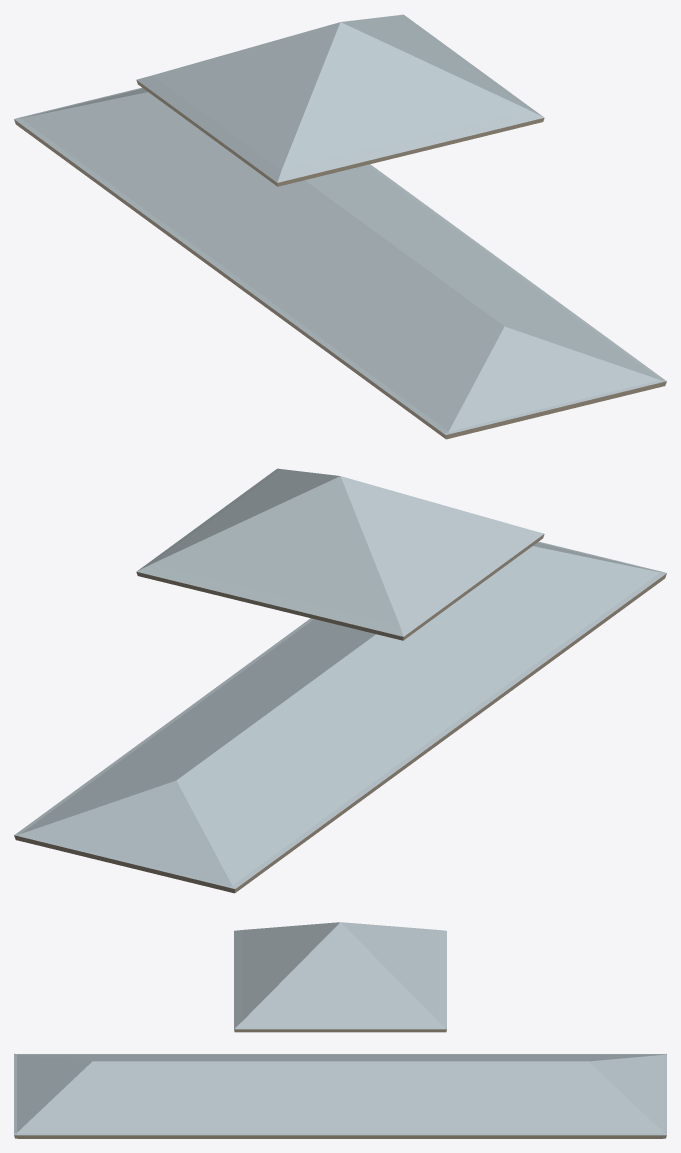
The model's file is civic-roof.glb.
3 views of the same model, one above another, from view 1: azimuth 30°, elevation 25°; view 2: azimuth 150°, elevation 25°; view 3: azimuth 270°, elevation 25° (orthographic). The views are drawn at different scales.
Visible parts, largest first — view 1: Roof, RoodWood; view 2: Roof, RoodWood; view 3: Roof, RoodWood.
Part boxes in pixels (x1,y1,x2,y2): Roof: [14, 14, 666, 434]; RoodWood: [14, 80, 666, 439]; Roof: [14, 468, 666, 888]; RoodWood: [14, 534, 666, 893]; Roof: [14, 922, 666, 1135]; RoodWood: [14, 1029, 666, 1138].
Bounding box in the file's own units: 11.87 × 9.9 × 33.24.
